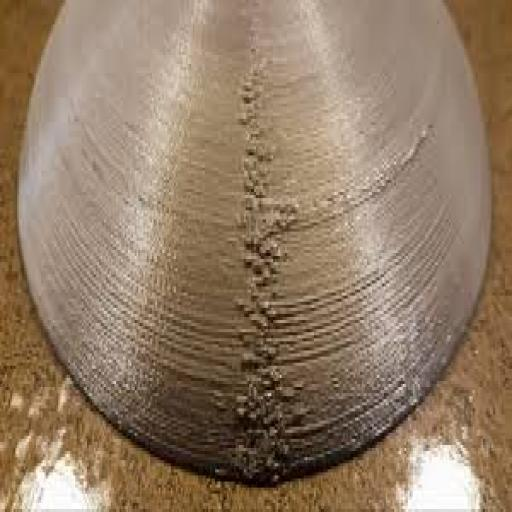blobs: (228, 48, 305, 489)
